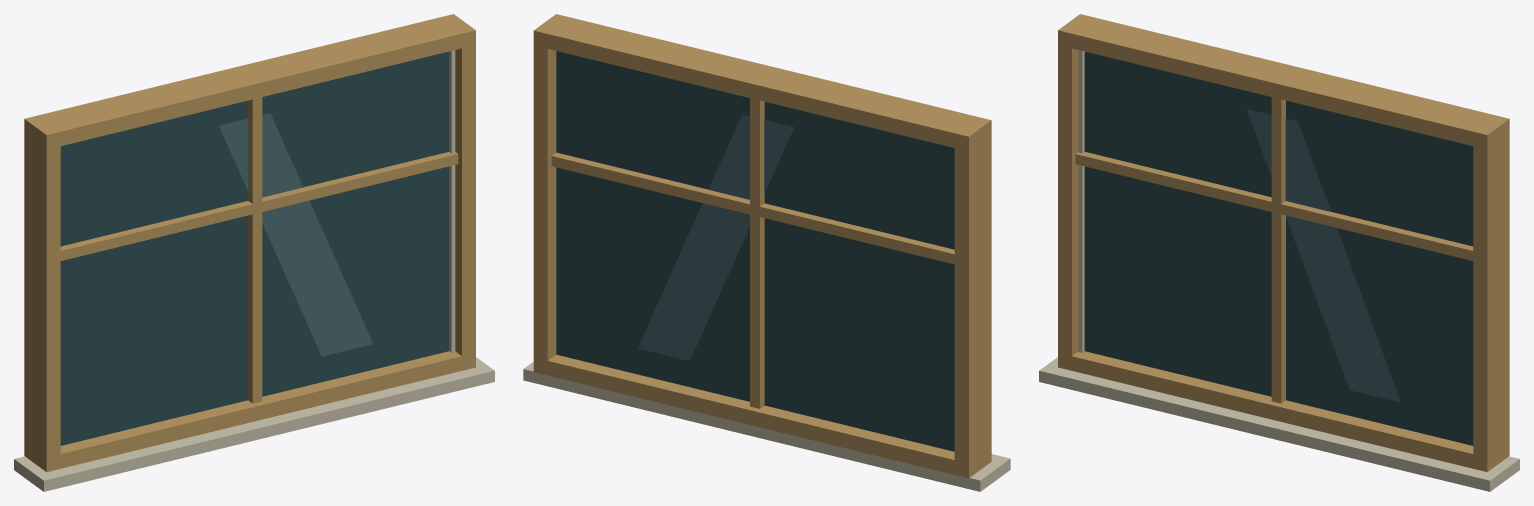
The model's file is Window_Museum_200x150.fbx.
3 views of the same model, side by side, from view 1: azimuth 30°, elevation 25°; view 2: azimuth 150°, elevation 25°; view 3: azimuth 330°, elevation 25° (orthographic).
Parts seen in each view (by area): view 1: M_Window_OpaqueGlass, AgedBrass, M_Central_Limestone, M_Window_GlassSheen; view 2: M_Window_OpaqueGlass, AgedBrass, M_Window_GlassSheen, M_Central_Limestone; view 3: M_Window_OpaqueGlass, AgedBrass, M_Window_GlassSheen, M_Central_Limestone.
Boxes of the visible parts, left/top/right/bottom form: M_Window_OpaqueGlass: left=60, top=51, right=449, bottom=445; AgedBrass: left=24, top=14, right=475, bottom=472; M_Central_Limestone: left=14, top=50, right=494, bottom=491; M_Window_GlassSheen: left=219, top=113, right=372, bottom=356; M_Window_OpaqueGlass: left=556, top=51, right=954, bottom=451; AgedBrass: left=533, top=14, right=991, bottom=478; M_Window_GlassSheen: left=638, top=114, right=794, bottom=360; M_Central_Limestone: left=523, top=362, right=1010, bottom=491; M_Window_OpaqueGlass: left=1084, top=51, right=1473, bottom=445; AgedBrass: left=1058, top=14, right=1509, bottom=472; M_Window_GlassSheen: left=1246, top=109, right=1400, bottom=402; M_Central_Limestone: left=1039, top=50, right=1519, bottom=491.
Bounding box in the file's own units: 210 × 155 × 24.5.
